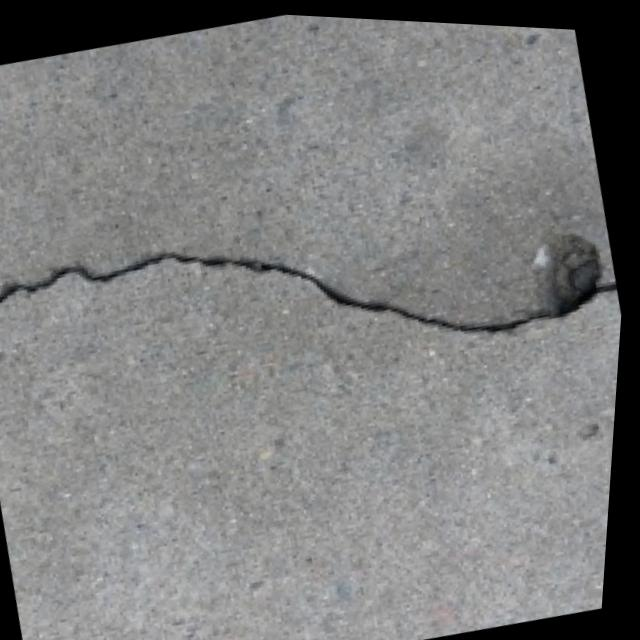Crack: (0, 111, 634, 484)
